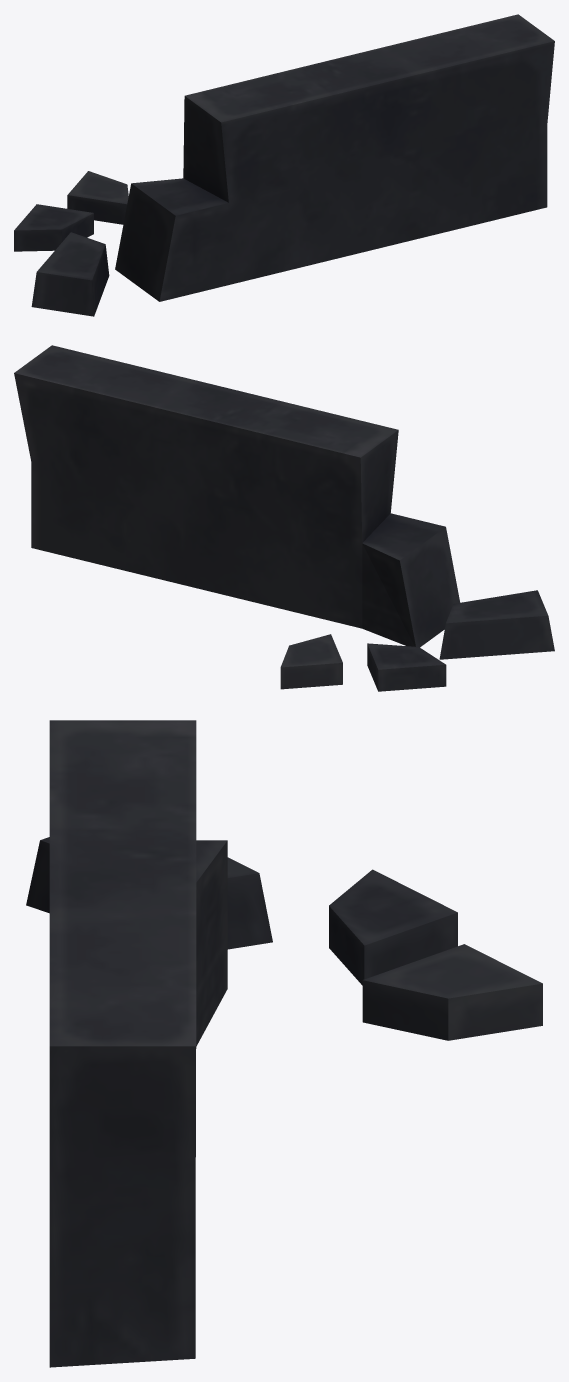
The model's file is Ruins6.FBX.
3 renders of one model, top to bottom at view 1: azimuth 30°, elevation 25°; view 2: azimuth 150°, elevation 25°; view 3: azimuth 270°, elevation 25°, orthographic. The views are drawn at different scales.
Visible parts, largest first — view 1: Ruins6; view 2: Ruins6; view 3: Ruins6.
Part boxes in pixels (<box>): Ruins6: <box>14,14,554,316</box>; Ruins6: <box>14,345,554,691</box>; Ruins6: <box>26,720,542,1367</box>.
Bounding box in the file's own units: 1044 × 326 × 464.
Materials: 1 (1 with a texture image).
